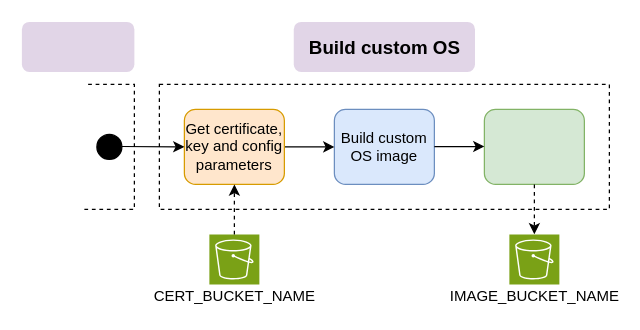
This 640x330 diagram has some shape labels left out. Each missing label, with the box of its shape:
Push custom OS image to S3: (483, 108, 584, 184)
Setup provisioning: (21, 21, 134, 71)
